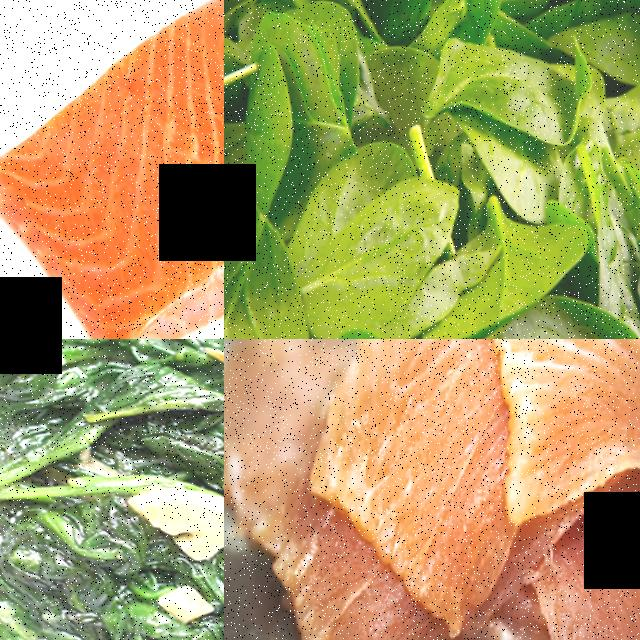salmon: (0, 0, 224, 339)
spinach: (315, 157, 460, 339), (431, 22, 596, 134), (224, 204, 334, 339), (238, 48, 313, 206), (506, 278, 614, 339), (446, 0, 519, 36)
